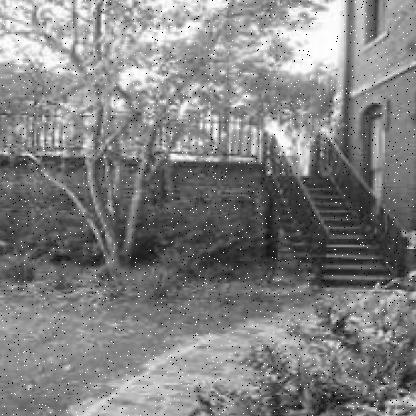stair_up: (272, 129, 406, 279)
